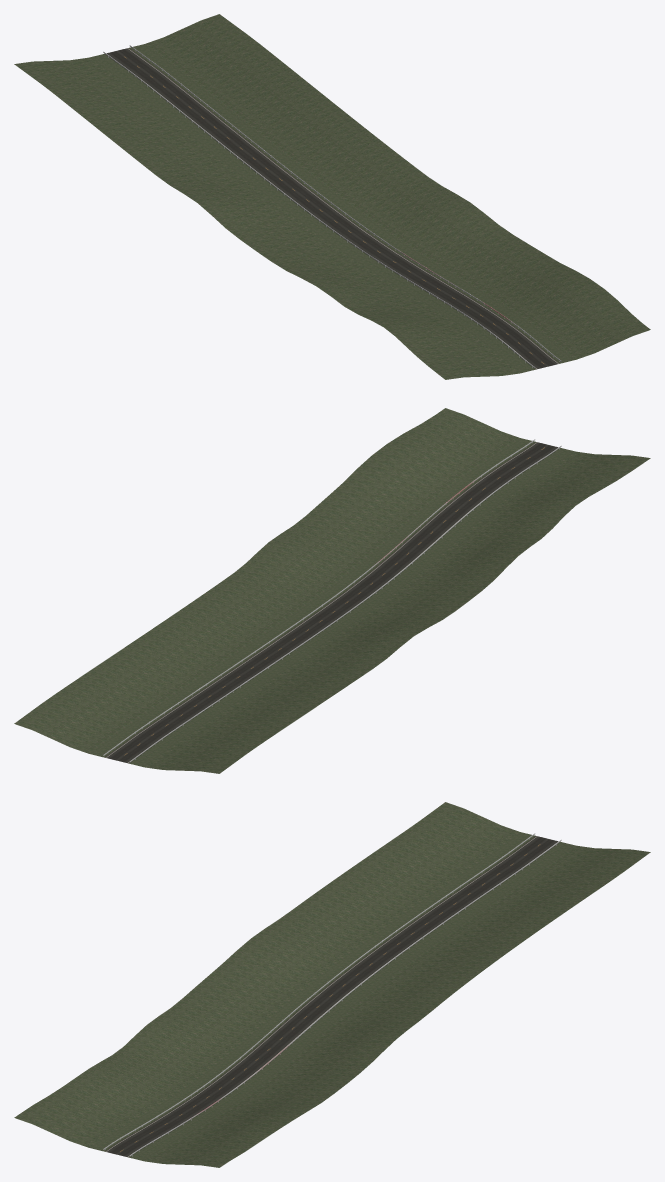
The picture shows the model from 3 angles, top to bottom: view 1: azimuth 30°, elevation 25°; view 2: azimuth 150°, elevation 25°; view 3: azimuth 330°, elevation 25°; orthographic projection.
Parts seen in each view (by area): view 1: Grass, HighWay, GuardRail; view 2: Grass, HighWay, GuardRail; view 3: Grass, HighWay, GuardRail.
Part boxes in pixels (<box>): Grass: <box>14,14,650,379</box>; HighWay: <box>104,47,560,369</box>; GuardRail: <box>103,45,561,368</box>; Grass: <box>14,408,650,773</box>; HighWay: <box>104,441,560,763</box>; GuardRail: <box>103,439,561,762</box>; Grass: <box>14,802,650,1167</box>; HighWay: <box>104,835,560,1157</box>; GuardRail: <box>103,833,561,1156</box>.
Size of what is drawn, in the model's own units: 117 by 10.19 by 400.
